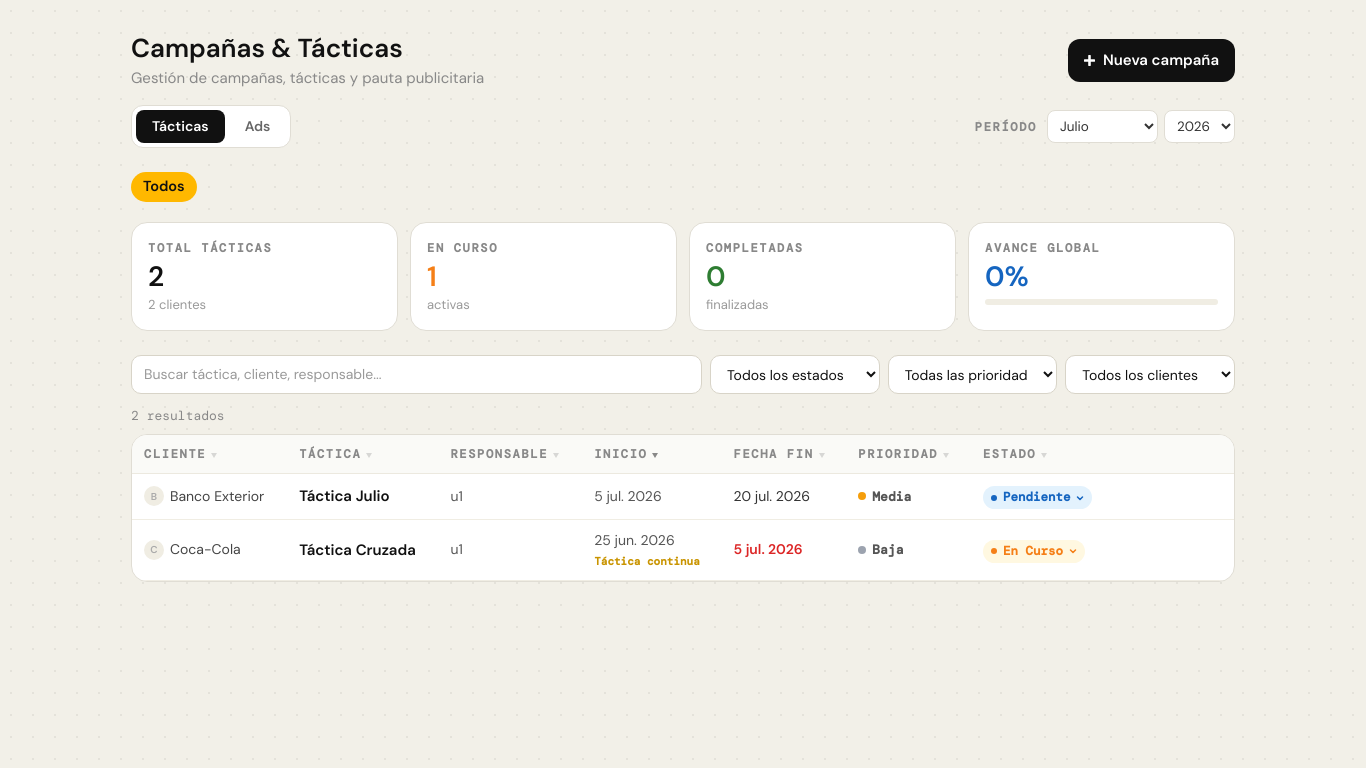
Test: AdsPage — tabs Tácticas/Ads › el selector de periodo filtra las tácticas mostradas
Expected: the text "Táctica Julio" is shown, [299, 486, 390, 506]
Expected: the text "Táctica Junio" is not shown
Cambiar el mes a Junio (6)
Select "Junio" in the 1st dropdown at (1102, 126), box [1047, 110, 1158, 143]
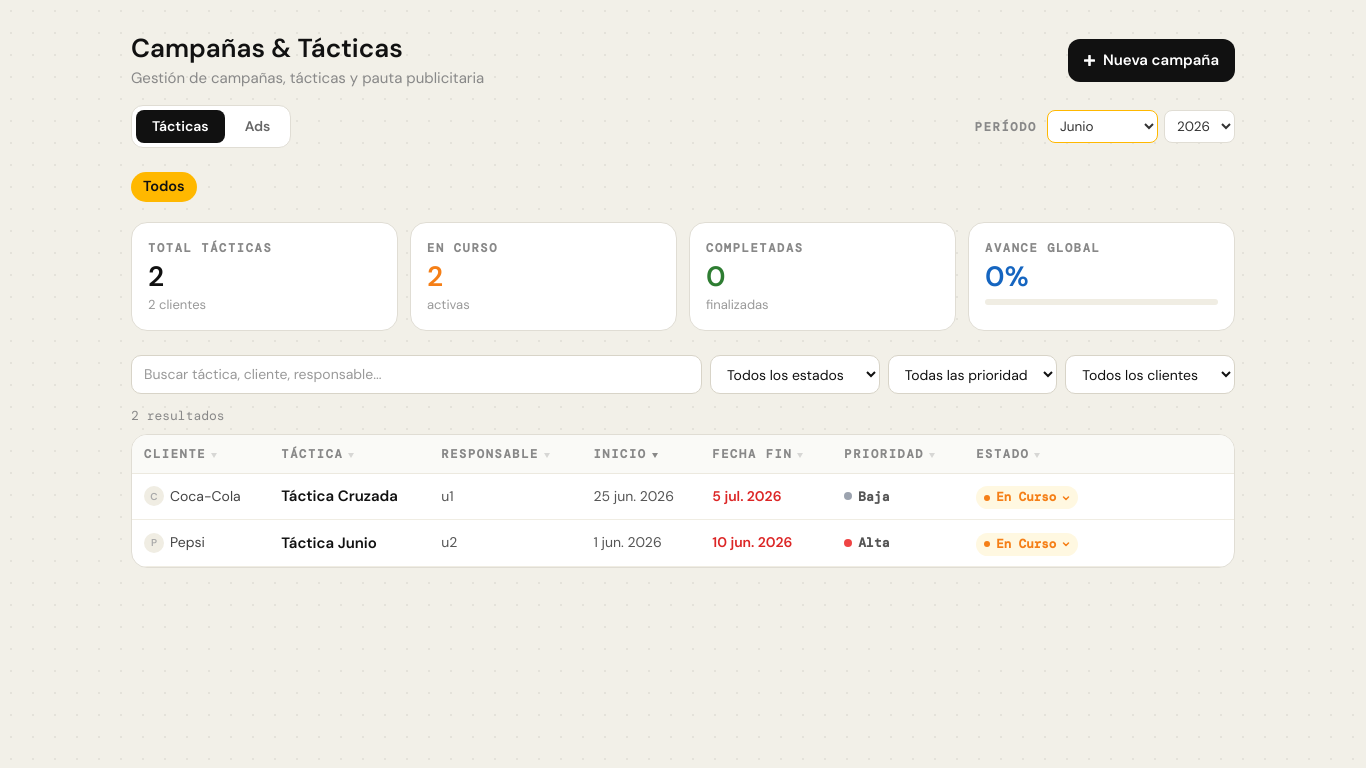
Expected: the text "Táctica Junio" is shown, [281, 532, 377, 552]
Expected: the text "Táctica Julio" is gone
